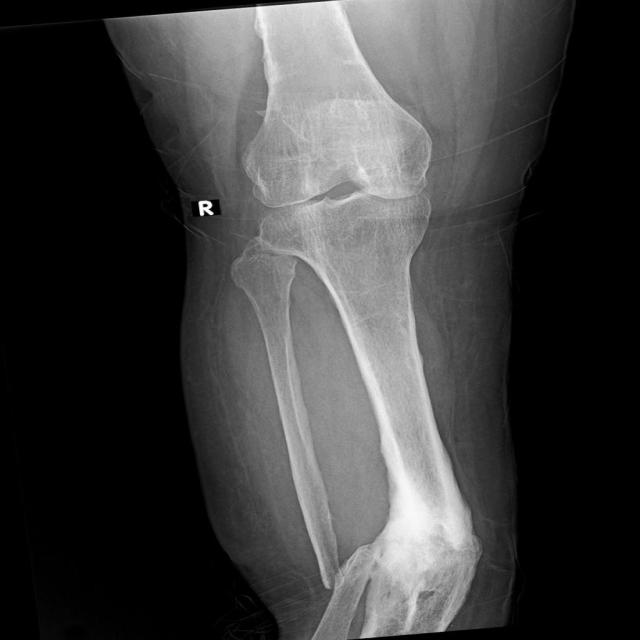Oblique: (303, 526, 392, 608)
